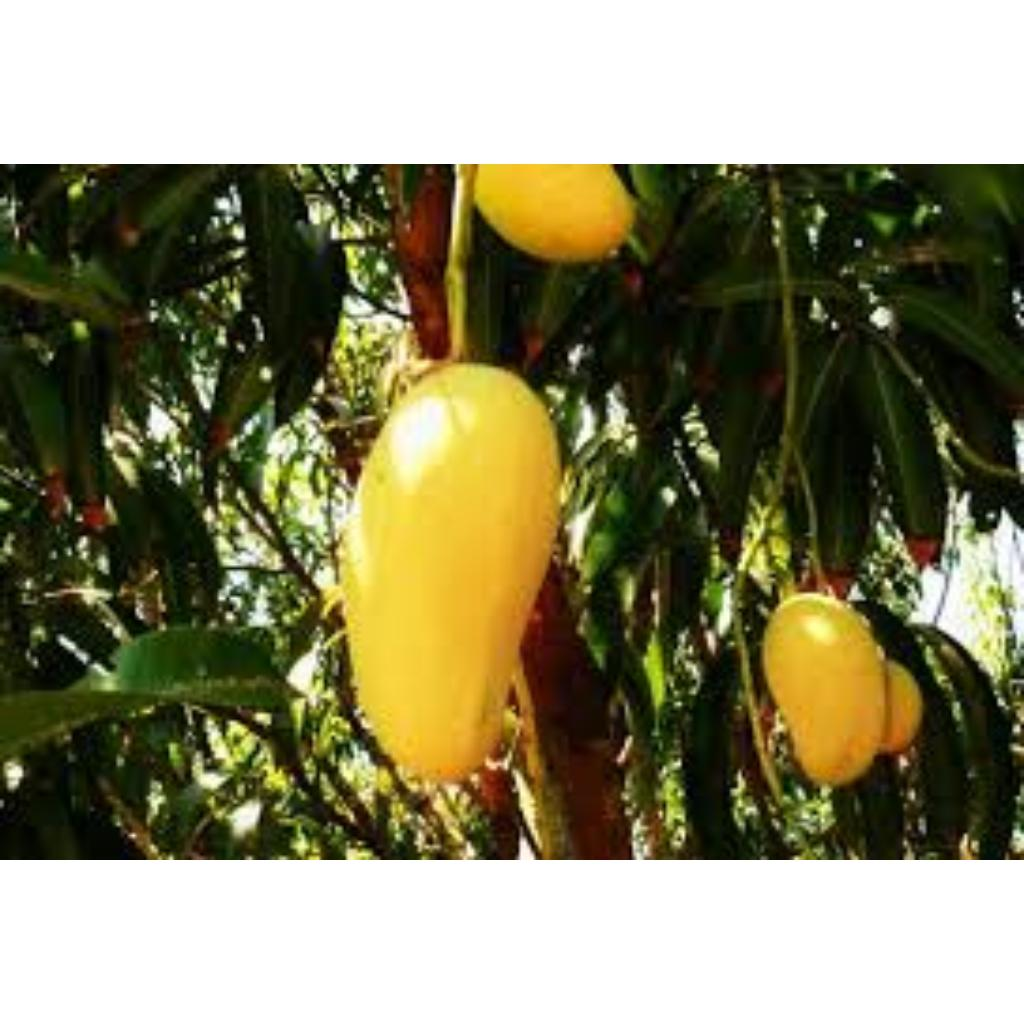mango: (335, 364, 561, 785), (766, 590, 888, 776), (475, 164, 639, 264)
